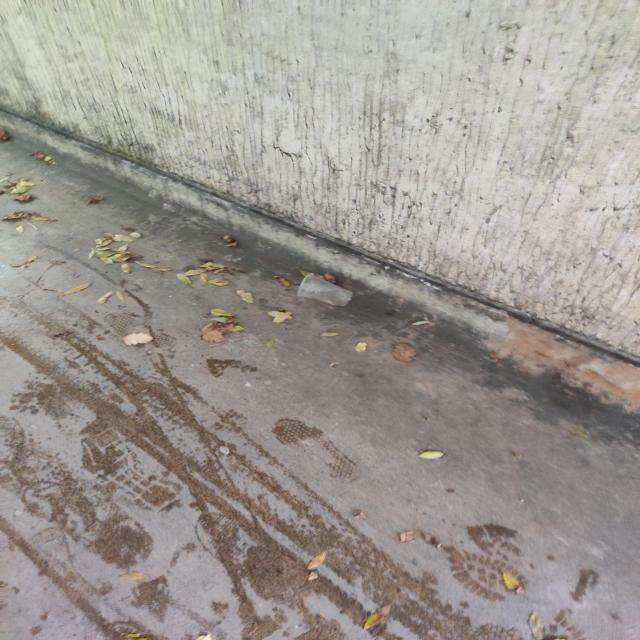litter: (275, 245, 377, 330)
